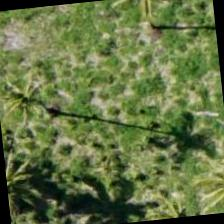Kelapa_Sawit: (102, 0, 200, 74)
